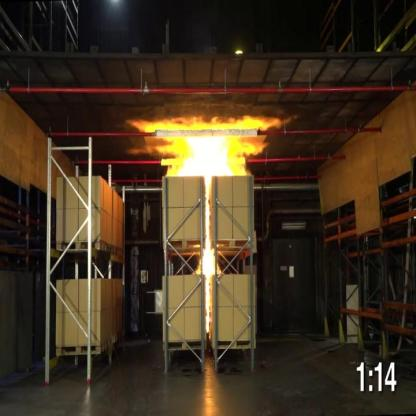fire: (124, 114, 288, 176), (199, 180, 218, 339)
